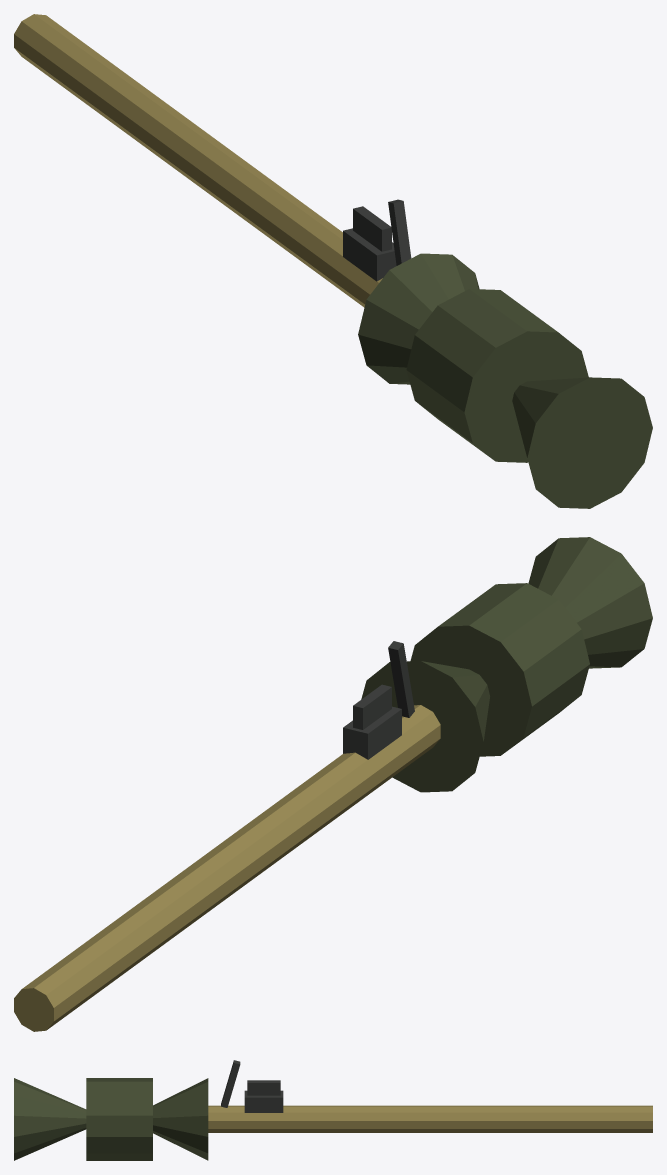
The model's file is panzerfaust_60_ios.glb.
The picture shows the model from 3 angles, top to bottom: view 1: azimuth 30°, elevation 25°; view 2: azimuth 150°, elevation 25°; view 3: azimuth 270°, elevation 25°; orthographic projection. The views are drawn at different scales.
Visible parts, largest first — view 1: panzerfaust_60; view 2: panzerfaust_60; view 3: panzerfaust_60.
Part boxes in pixels (x1,y1,x2,y2): panzerfaust_60: (14,14,652,508); panzerfaust_60: (14,537,652,1031); panzerfaust_60: (14,1060,652,1160).
Size of the model in its own units: 0.15 by 0.19 by 1.15.
